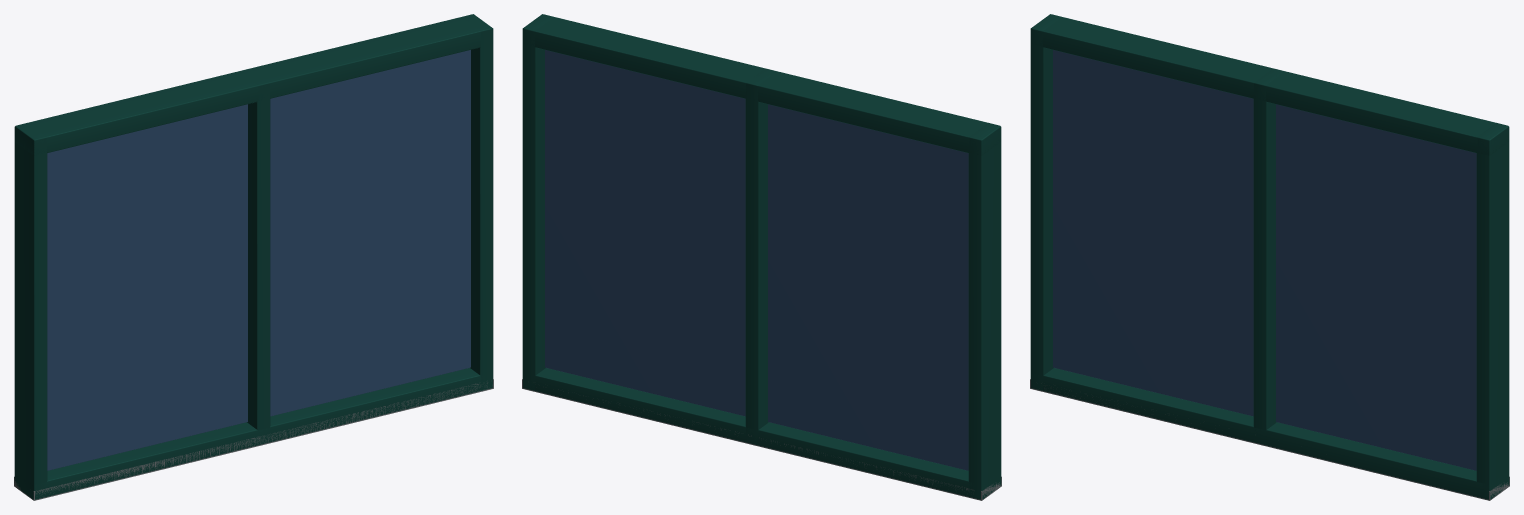
The model's file is shop-window-intact.glb.
3 views of the same model, side by side, from view 1: azimuth 30°, elevation 25°; view 2: azimuth 150°, elevation 25°; view 3: azimuth 330°, elevation 25° (orthographic).
Parts seen in each view (by area): view 1: shop-window-intact; view 2: shop-window-intact; view 3: shop-window-intact.
Boxes of the visible parts, left/top/right/bottom form: shop-window-intact: left=14, top=14, right=493, bottom=500; shop-window-intact: left=522, top=14, right=1001, bottom=500; shop-window-intact: left=1030, top=14, right=1509, bottom=500.
Size of the model in its own units: 4 by 3 by 0.3.
Materials: 1 (1 with a texture image).
